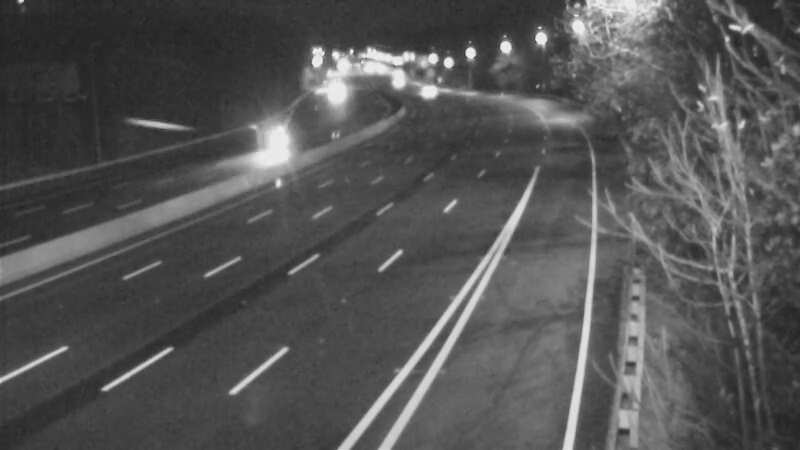vehicle: (400, 68, 450, 118), (246, 118, 296, 168), (307, 69, 357, 119)
